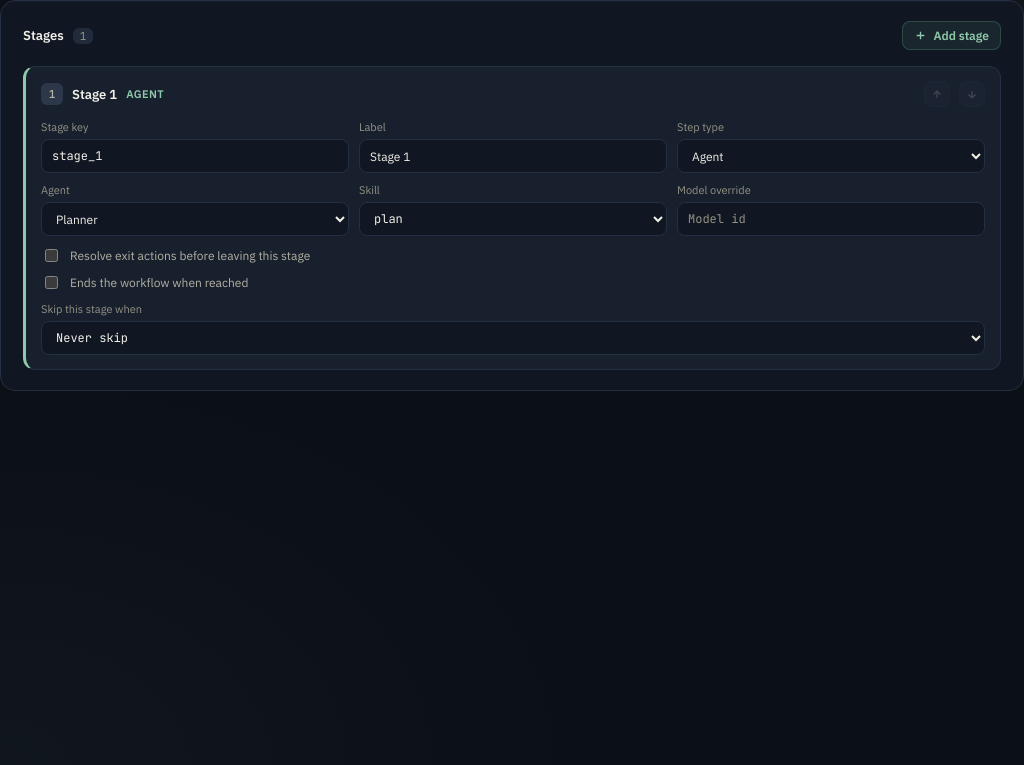
Studio exit-action authoring (AC-1/AC-2 UI) › gives each exit-action remove control a stable accessible name
Click the checkbox labelled "Resolve exit actions before leaving this stage" at (52, 256), box [45,249,58,262]
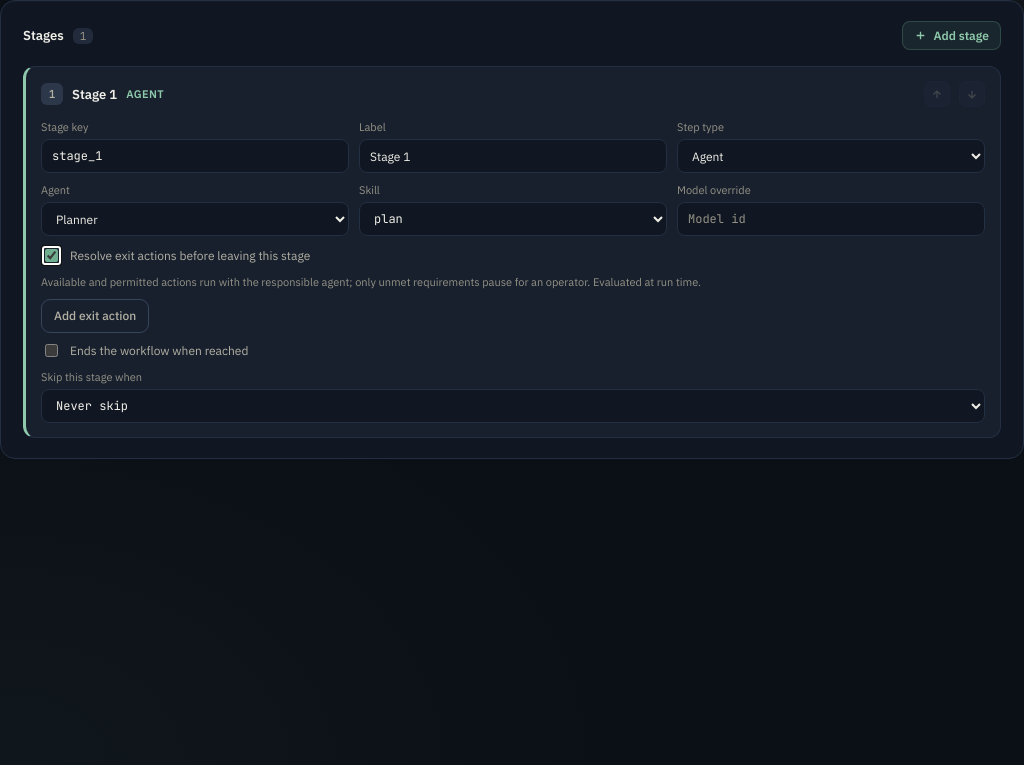
Click the button "Add exit action" at (95, 316), box [41,299,149,333]
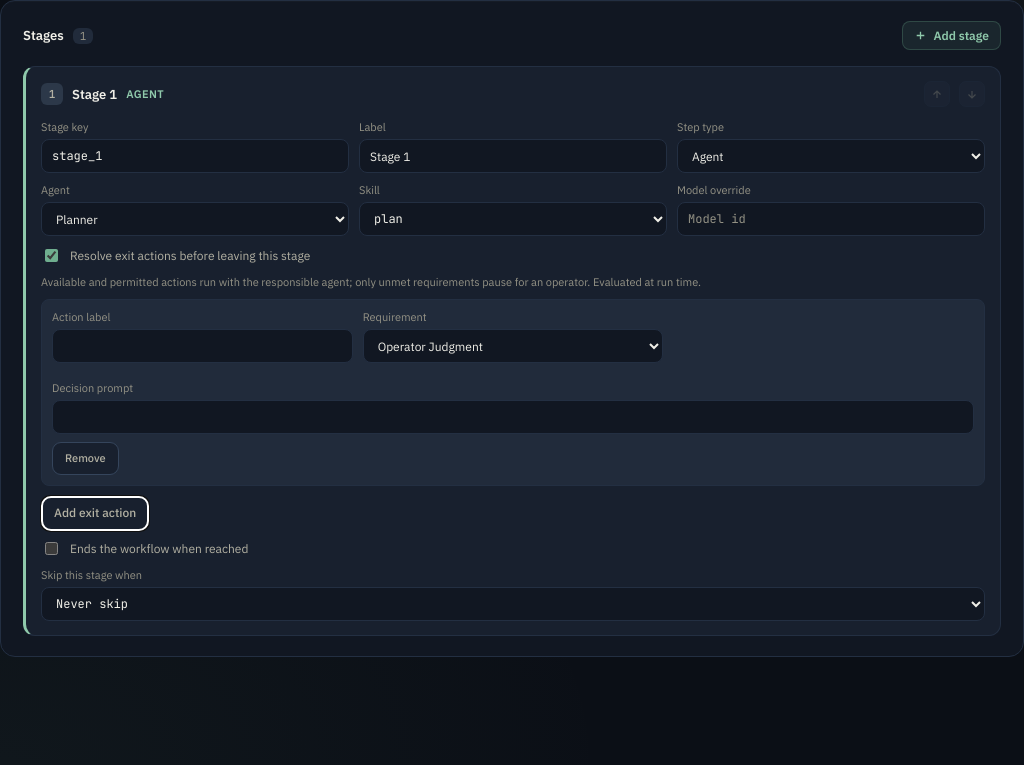
Click the button "Add exit action" at (95, 513), box [41,496,149,531]
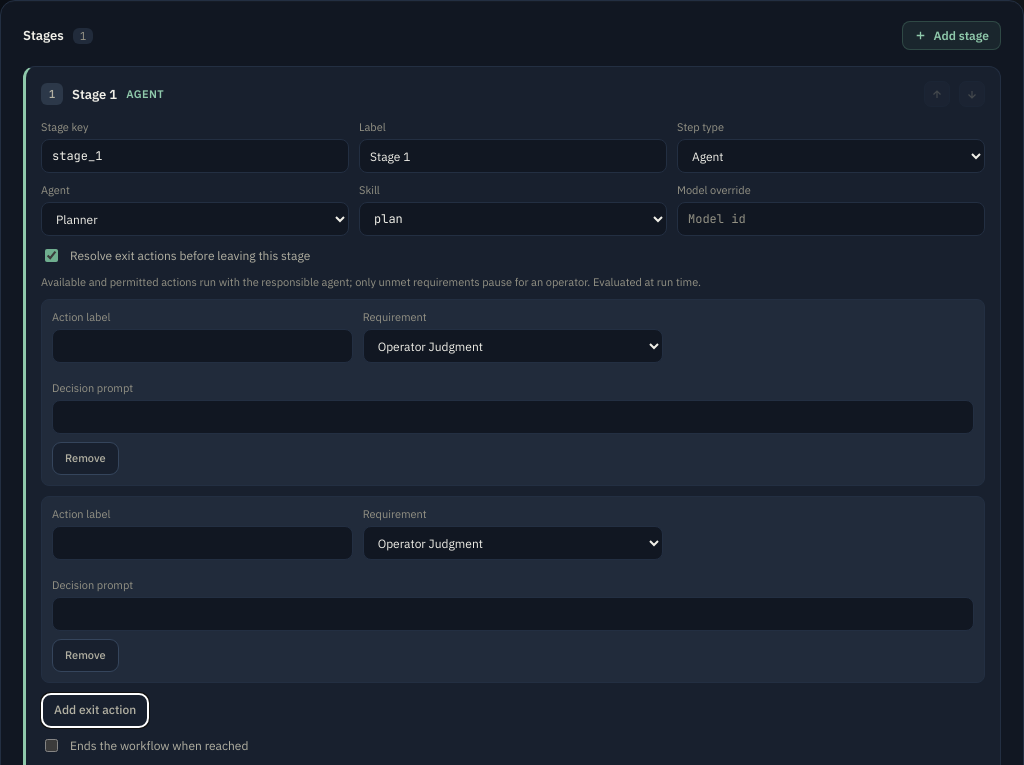
Expected: the button with aria-label "Remove exit action 1" is shown, [52,442,119,475]
Expected: the button with aria-label "Remove exit action 2" is shown, [52,639,119,672]
